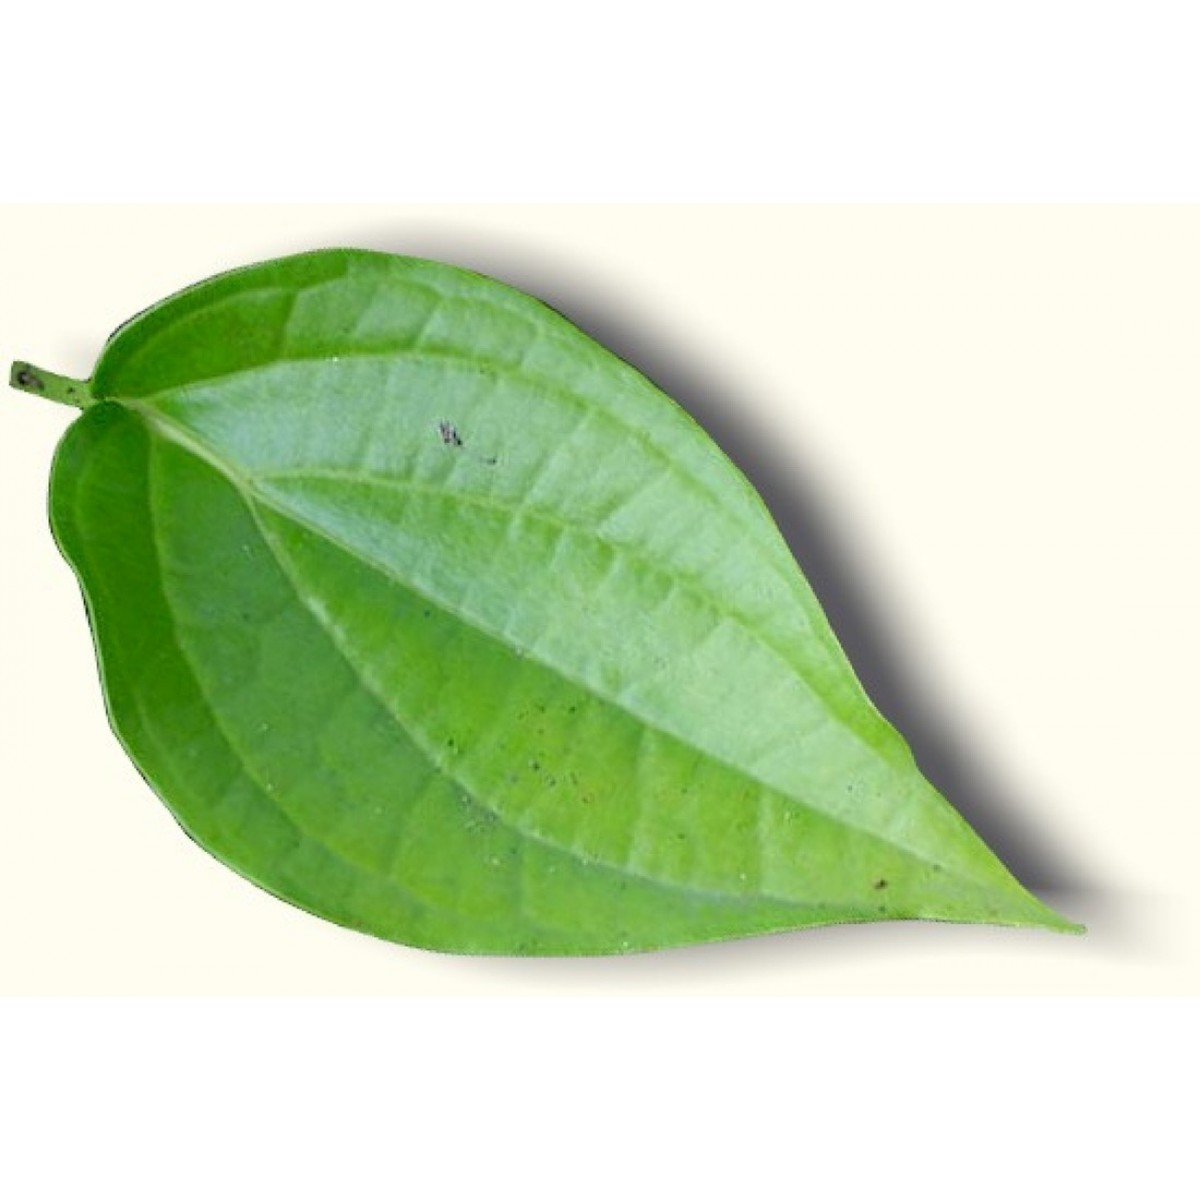healthy: (47, 222, 1120, 1118)
